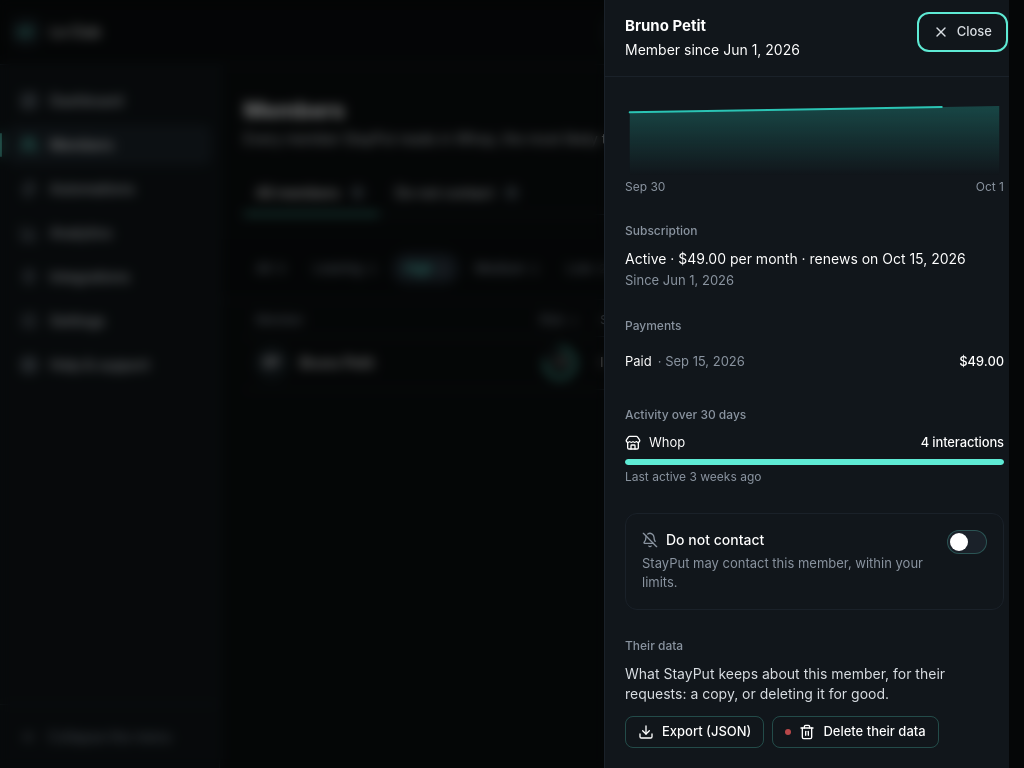
Scenario: creator view › keeps a member off every action from their drawer, and says when that was not saved
(page scrolled)
Expected: the list items read "Whop4 interactionsLast active 3 weeks ago", in this order, [625,433,1004,485]
What coordinates should you click on to do the following:
click the switch named "Do not contact"
I would click on:
 (967, 542)
Its box is [947,530,987,554].
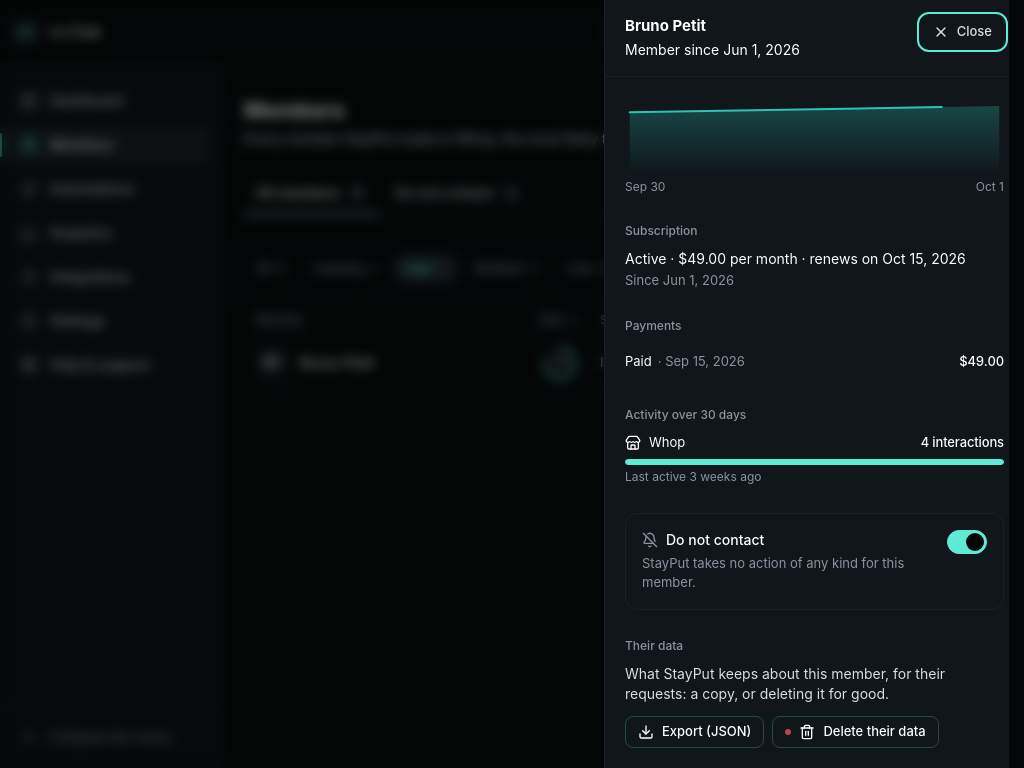
Expected: the text "StayPut takes no action of any kind for this member." is shown, [642,554,931,593]
# Not saved: it says so, and the switch stays as it was.
What coordinates should you click on to do the following:
click the switch named "Do not contact"
I would click on:
 (967, 542)
Its box is [947,530,987,554].
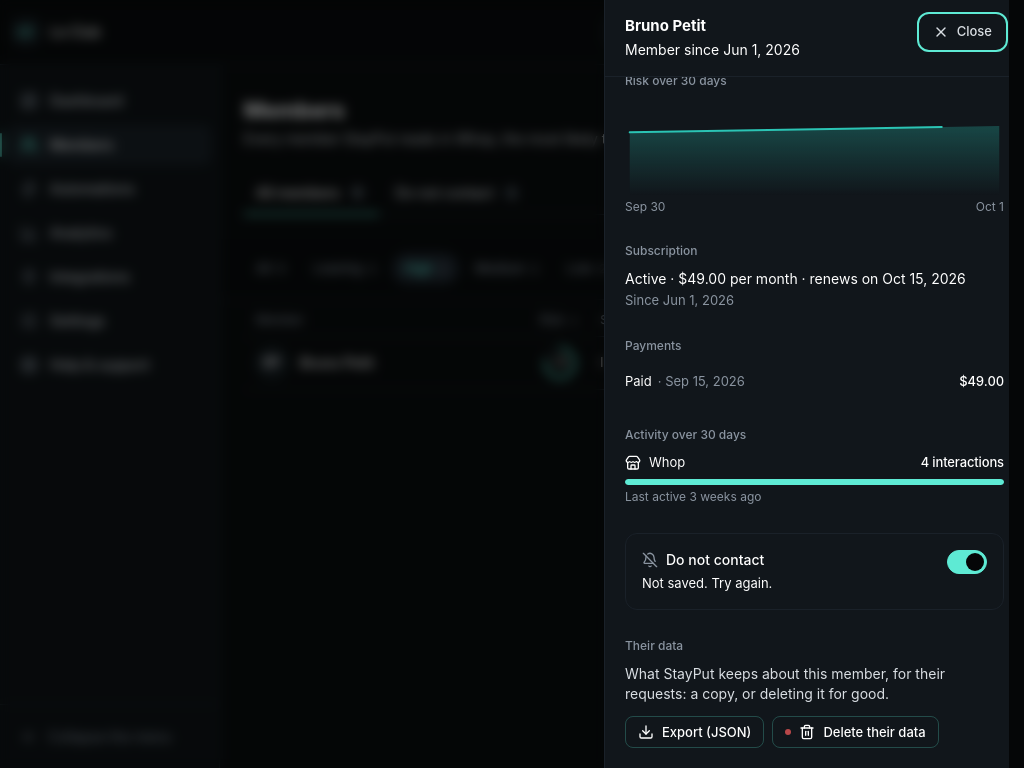
Expected: the text "Not saved. Try again." is shown, [642,575,772,591]
# Closed: the members were read again, Bruno's row wears the bell.
What coordinates should you click on to do the following:
click the button "Close"
I would click on:
 (962, 32)
Its box is [921,16,1004,48].
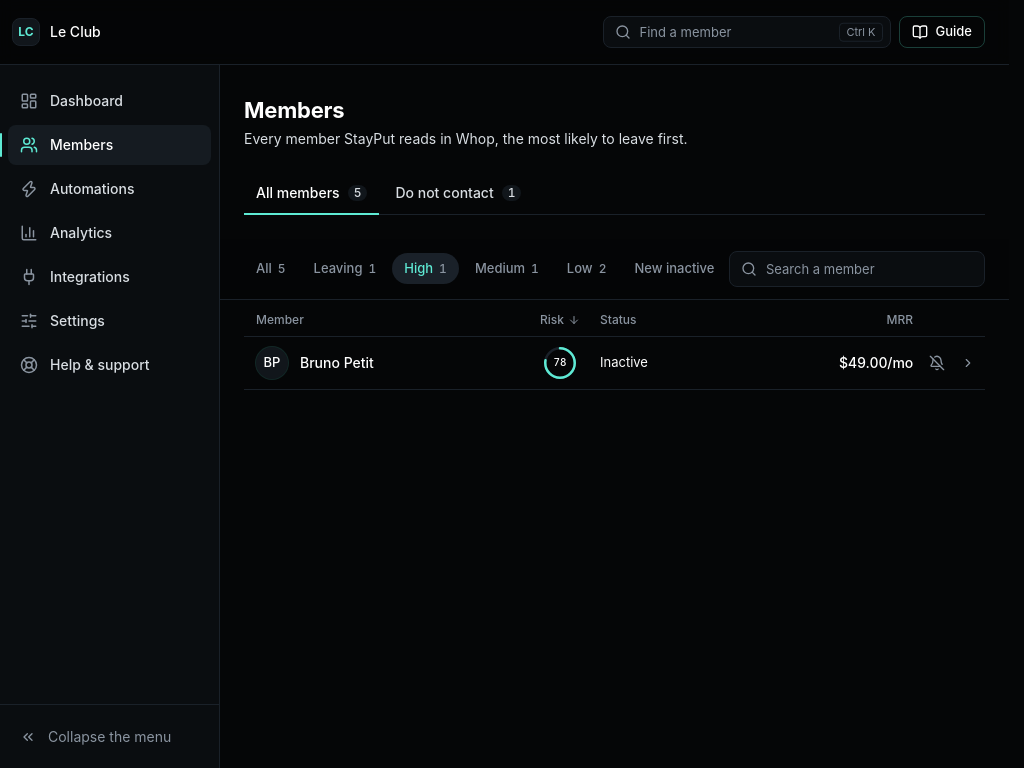
Expected: the dialog is gone
